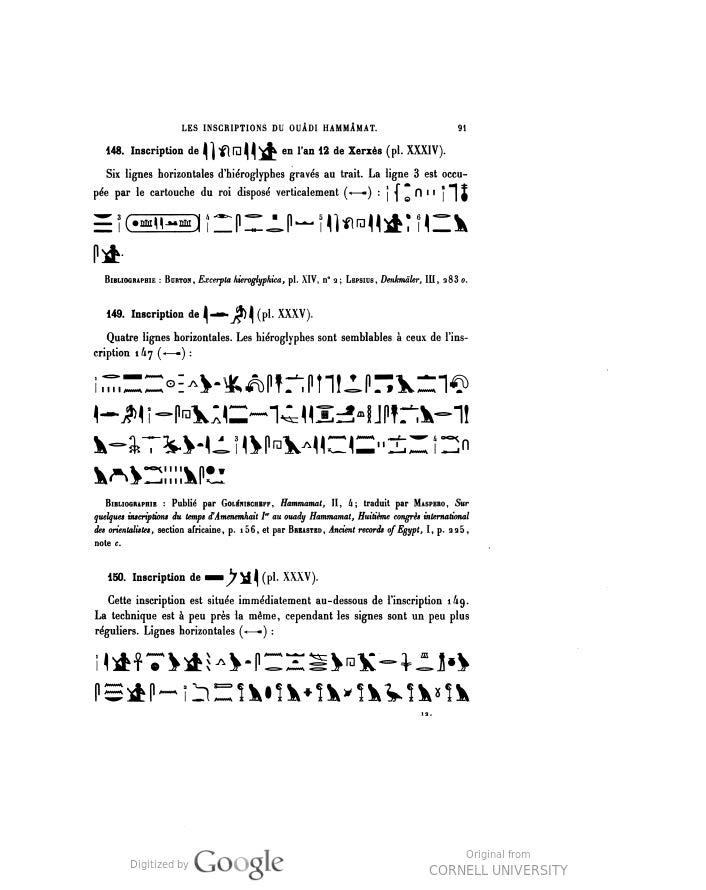circle: (119, 206, 205, 253)
